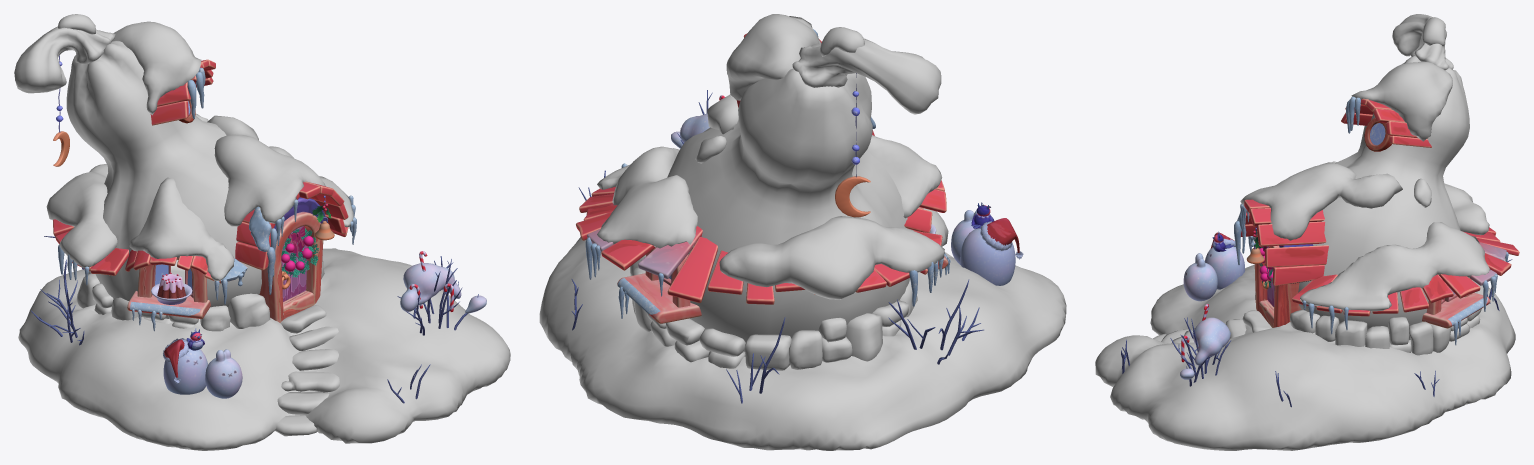
File: christmas-pumpkin.fbx
3 renders of one model, left to right at view 1: azimuth 30°, elevation 25°; view 2: azimuth 150°, elevation 25°; view 3: azimuth 270°, elevation 25°, orthographic. The views are drawn at different scales.
Visible parts, largest first — view 1: Ground_L_Base_0, Snow_L_Base_0, pumpkin_L_Base_0, StonesA_L_Base_0, Tail_L_Base_0, StonesB_L_Base_0, Dver_Details_0_0, snowman_Details_0, Zai2_Details_0, Zai1_Details_0, StonesC_L_Base_0, Okno_Details_0 (+9 smaller); view 2: Ground_L_Base_0, pumpkin_L_Base_0, Snow_L_Base_0, Tail_L_Base_0, StonesC_L_Base_0, StonesA_L_Base_0, Zai2_Details_0, Krysha109_Details_0, casement window011_Details_0, StonesB_L_Base_0, Krysha108_Details_0, Krysha107_Details_0 (+9 smaller); view 3: Ground_L_Base_0, Snow_L_Base_0, pumpkin_L_Base_0, StonesA_L_Base_0, Tail_L_Base_0, StonesB_L_Base_0, snowman_Details_0, Dver_Details_0_0, Krysha6_Details_0, Zai1_Details_0, Zai2_Details_0, Krysha5_Details_0 (+9 smaller).
Part boxes in pixels (x1=…): Ground_L_Base_0: x1=18, y1=248, x2=510, y2=450; Snow_L_Base_0: x1=46, y1=14, x2=353, y2=280; pumpkin_L_Base_0: x1=66, y1=40, x2=261, y2=318; StonesA_L_Base_0: x1=88, y1=263, x2=339, y2=436; Tail_L_Base_0: x1=14, y1=26, x2=115, y2=93; StonesB_L_Base_0: x1=94, y1=256, x2=338, y2=414; Dver_Details_0_0: x1=259, y1=211, x2=323, y2=322; snowman_Details_0: x1=400, y1=263, x2=486, y2=313; Zai2_Details_0: x1=163, y1=348, x2=207, y2=394; Zai1_Details_0: x1=205, y1=349, x2=242, y2=398; StonesC_L_Base_0: x1=76, y1=273, x2=195, y2=328; Okno_Details_0: x1=137, y1=257, x2=207, y2=302; Ground_L_Base_0: x1=539, y1=208, x2=1066, y2=450; pumpkin_L_Base_0: x1=667, y1=43, x2=913, y2=351; Snow_L_Base_0: x1=597, y1=14, x2=944, y2=299; Tail_L_Base_0: x1=792, y1=38, x2=941, y2=114; StonesC_L_Base_0: x1=633, y1=279, x2=917, y2=369; StonesA_L_Base_0: x1=632, y1=252, x2=952, y2=370; Zai2_Details_0: x1=960, y1=228, x2=1015, y2=285; Krysha109_Details_0: x1=667, y1=237, x2=717, y2=302; casement window011_Details_0: x1=617, y1=273, x2=701, y2=323; StonesB_L_Base_0: x1=647, y1=313, x2=901, y2=362; Krysha108_Details_0: x1=638, y1=226, x2=702, y2=278; Krysha107_Details_0: x1=601, y1=239, x2=654, y2=270; Ground_L_Base_0: x1=1095, y1=264, x2=1515, y2=450; Snow_L_Base_0: x1=1240, y1=17, x2=1490, y2=311; pumpkin_L_Base_0: x1=1298, y1=56, x2=1469, y2=340; StonesA_L_Base_0: x1=1153, y1=292, x2=1481, y2=355; Tail_L_Base_0: x1=1392, y1=14, x2=1453, y2=70; StonesB_L_Base_0: x1=1161, y1=310, x2=1480, y2=352; snowman_Details_0: x1=1180, y1=317, x2=1230, y2=379; Dver_Details_0_0: x1=1254, y1=233, x2=1301, y2=327; Krysha6_Details_0: x1=1264, y1=245, x2=1328, y2=267; Zai1_Details_0: x1=1183, y1=253, x2=1217, y2=301; Zai2_Details_0: x1=1205, y1=246, x2=1245, y2=289; Krysha5_Details_0: x1=1256, y1=221, x2=1326, y2=246.
Size of the model in its own units: 30343 by 24739 by 31907.
